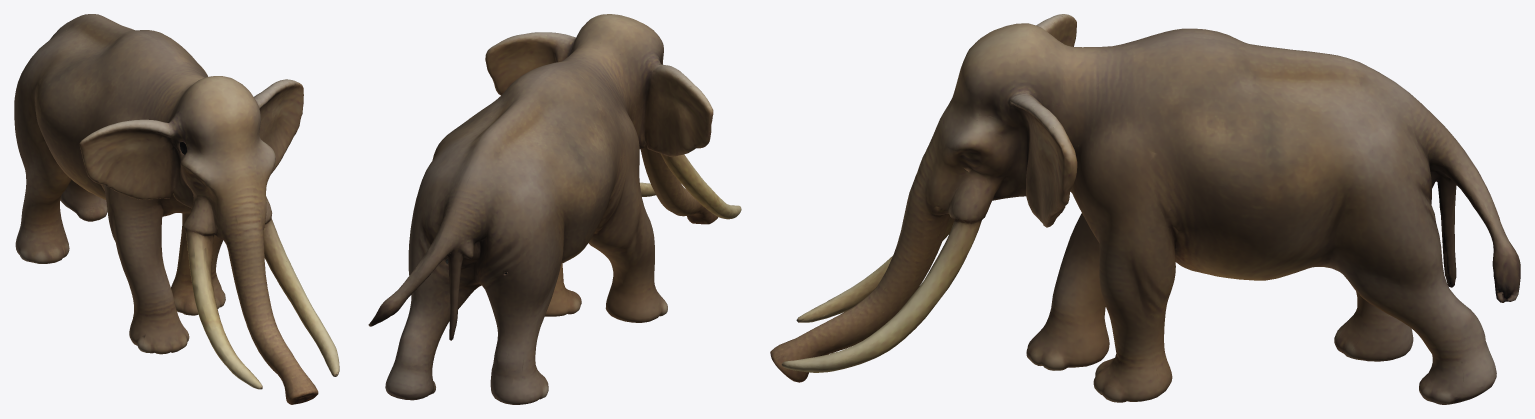
The picture shows the model from 3 angles, left to right: view 1: azimuth 30°, elevation 25°; view 2: azimuth 150°, elevation 25°; view 3: azimuth 270°, elevation 25°; orthographic projection. The views are drawn at different scales.
Visible parts, largest first — view 1: world; view 2: world; view 3: world.
Part boxes in pixels (x1,y1,x2,y2): world: [14, 14, 339, 404]; world: [368, 14, 741, 404]; world: [770, 14, 1520, 404].
Bounding box in the file's own units: 2.83 × 3.24 × 6.2.
Materials: 1 (1 with a texture image).
